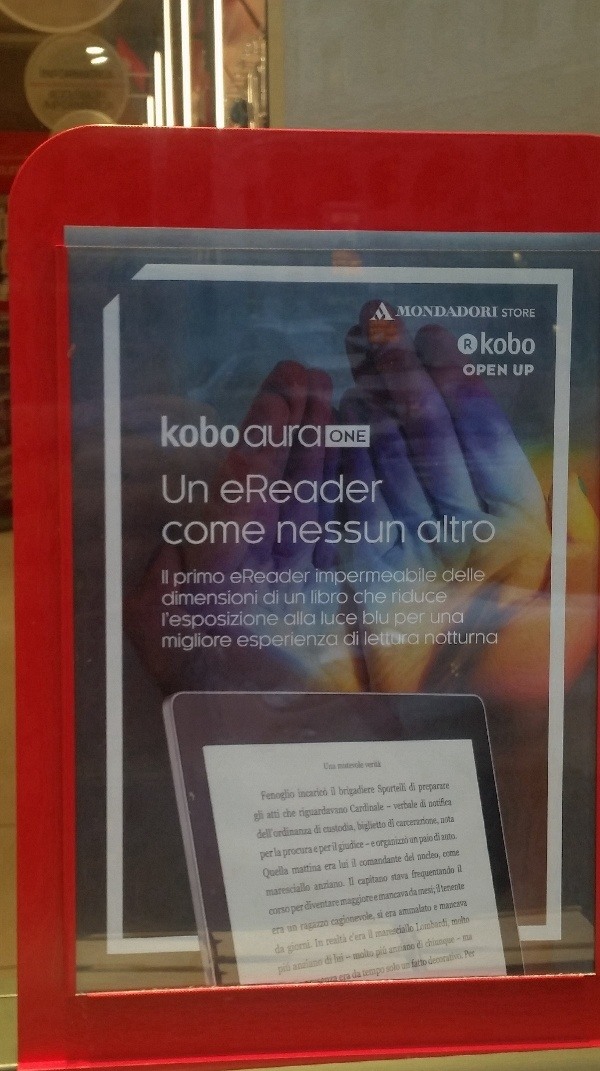text: (193, 472, 209, 511), (177, 472, 192, 511), (305, 413, 321, 448), (161, 413, 176, 448), (177, 413, 192, 448), (193, 413, 208, 448), (209, 413, 224, 448), (225, 413, 240, 448), (241, 413, 256, 448), (257, 413, 272, 448), (273, 413, 288, 448), (289, 413, 304, 448), (225, 471, 240, 506), (241, 471, 256, 506), (257, 471, 272, 506), (273, 471, 288, 506), (289, 471, 304, 506), (305, 471, 320, 506), (321, 471, 336, 506), (337, 471, 352, 506), (353, 471, 368, 506), (369, 471, 384, 506), (163, 472, 176, 511), (417, 513, 432, 546), (433, 513, 448, 546), (449, 513, 464, 546), (465, 513, 480, 546), (481, 513, 496, 546), (177, 517, 192, 549), (193, 517, 208, 549), (209, 517, 224, 549), (225, 517, 240, 549), (241, 517, 256, 549), (163, 517, 176, 549), (289, 517, 304, 544), (305, 517, 320, 544), (321, 517, 336, 544), (337, 517, 352, 544), (353, 517, 368, 544), (369, 517, 384, 544), (385, 517, 400, 544), (481, 331, 496, 356), (497, 331, 512, 356), (513, 331, 528, 356), (177, 610, 192, 631), (193, 610, 208, 631), (209, 610, 224, 631), (225, 610, 240, 631), (241, 610, 256, 631), (257, 610, 272, 631), (321, 566, 336, 587), (337, 566, 352, 587), (353, 566, 368, 587), (369, 566, 384, 587), (385, 566, 400, 587), (401, 566, 416, 587), (417, 566, 432, 587), (177, 568, 192, 588), (193, 568, 208, 588), (209, 568, 224, 588), (241, 632, 256, 652), (257, 632, 272, 652), (273, 632, 288, 652), (289, 632, 304, 652), (305, 632, 320, 652), (321, 632, 336, 652), (277, 517, 288, 544), (162, 610, 176, 631), (257, 517, 266, 549), (177, 633, 192, 652), (193, 633, 208, 652), (209, 633, 224, 652), (337, 607, 352, 626), (289, 938, 304, 957), (353, 891, 368, 910), (385, 922, 400, 941), (449, 567, 464, 585), (465, 567, 480, 585), (401, 588, 416, 606), (417, 588, 432, 606), (369, 588, 384, 606), (369, 630, 384, 648), (385, 630, 400, 648), (401, 630, 416, 648), (417, 865, 432, 883), (433, 865, 448, 883), (337, 910, 352, 928), (353, 910, 368, 928), (433, 930, 448, 948), (449, 930, 464, 948), (162, 633, 176, 652), (322, 607, 336, 626), (289, 591, 305, 607), (241, 590, 257, 606), (241, 567, 256, 584), (257, 567, 272, 584), (273, 567, 288, 584), (289, 567, 304, 584), (321, 588, 336, 605), (369, 609, 384, 626), (401, 611, 416, 628), (433, 629, 448, 646), (449, 629, 464, 646), (465, 629, 480, 646), (481, 629, 496, 646), (433, 588, 447, 606), (354, 588, 368, 606), (401, 922, 414, 941), (513, 363, 528, 379), (177, 590, 192, 606), (193, 590, 208, 606), (209, 590, 224, 606), (225, 590, 240, 606), (273, 865, 289, 880), (305, 956, 320, 972), (369, 819, 384, 835), (433, 917, 449, 932), (162, 568, 176, 585), (340, 891, 352, 910), (337, 431, 352, 446), (465, 362, 480, 377), (481, 362, 496, 377), (289, 611, 304, 626), (273, 788, 288, 803), (305, 806, 320, 821), (321, 806, 336, 821), (385, 835, 400, 850), (369, 873, 384, 888), (417, 917, 432, 932), (433, 951, 448, 966), (162, 590, 176, 606), (401, 799, 417, 813), (401, 305, 416, 319), (417, 305, 432, 319), (433, 305, 448, 319), (449, 305, 464, 319), (465, 305, 480, 319), (481, 305, 496, 319), (465, 338, 480, 352), (273, 883, 288, 897), (289, 883, 304, 897), (305, 898, 320, 912), (321, 898, 336, 912), (353, 785, 368, 799), (385, 783, 400, 797), (353, 799, 368, 813), (369, 799, 384, 813), (385, 799, 400, 813), (369, 855, 384, 869), (385, 855, 400, 869), (449, 951, 463, 966), (369, 966, 384, 980), (337, 588, 349, 605), (338, 840, 352, 854), (338, 785, 352, 799), (353, 431, 366, 446), (257, 827, 272, 840), (337, 821, 352, 834), (289, 846, 304, 859), (305, 920, 320, 933), (401, 815, 416, 828), (417, 815, 432, 828), (353, 947, 368, 960), (433, 782, 449, 794), (291, 903, 304, 917), (418, 884, 432, 897), (386, 960, 400, 973), (433, 612, 448, 624), (273, 826, 288, 838), (289, 826, 304, 838), (305, 863, 320, 875), (321, 880, 336, 892), (385, 890, 400, 902), (401, 903, 416, 915), (417, 903, 432, 915), (293, 956, 304, 972), (357, 819, 368, 835), (225, 633, 234, 652), (323, 821, 336, 834), (339, 857, 352, 870), (451, 913, 464, 926), (449, 612, 463, 624), (401, 942, 415, 954), (513, 308, 528, 319), (261, 788, 272, 803), (305, 787, 320, 798), (337, 806, 348, 821), (433, 798, 448, 809), (449, 900, 464, 911), (278, 960, 288, 976), (419, 782, 432, 794), (419, 834, 432, 846), (353, 931, 366, 943), (353, 840, 364, 854), (434, 832, 448, 843), (231, 567, 240, 584), (376, 922, 384, 941), (529, 331, 535, 356), (497, 362, 507, 377), (305, 611, 315, 626), (273, 906, 288, 916), (326, 931, 336, 946), (337, 931, 347, 946), (417, 851, 432, 861), (358, 873, 368, 888), (449, 882, 464, 892), (321, 975, 336, 985), (273, 610, 280, 631), (263, 589, 272, 605), (343, 631, 352, 647), (392, 588, 400, 606), (292, 863, 304, 875), (275, 943, 288, 954), (220, 471, 224, 506), (338, 760, 352, 770), (274, 849, 288, 859), (306, 975, 320, 985), (312, 588, 320, 605), (417, 611, 425, 628), (401, 517, 406, 544), (263, 865, 272, 880), (273, 927, 288, 936), (260, 851, 272, 862), (325, 953, 336, 965), (388, 817, 400, 828), (389, 942, 400, 954), (386, 909, 400, 918), (425, 930, 432, 948), (465, 930, 472, 948), (405, 851, 416, 862), (420, 798, 432, 808), (436, 884, 448, 894), (417, 957, 427, 969), (401, 962, 416, 970), (425, 629, 432, 646), (339, 973, 352, 982), (360, 855, 368, 869), (376, 945, 384, 959), (502, 308, 512, 319), (353, 760, 364, 770), (321, 845, 331, 856), (465, 948, 475, 959), (442, 567, 448, 585), (481, 567, 487, 585), (324, 862, 336, 871), (449, 865, 455, 883), (369, 910, 375, 928), (315, 566, 320, 587), (433, 566, 438, 587), (289, 788, 296, 803), (257, 808, 264, 823), (377, 835, 384, 850), (401, 835, 408, 850), (305, 846, 313, 859), (321, 920, 329, 933), (337, 952, 345, 965), (305, 567, 311, 584), (362, 609, 368, 626), (353, 969, 362, 980), (353, 631, 359, 647), (324, 763, 336, 771), (337, 880, 345, 892), (401, 890, 409, 902), (353, 607, 358, 626), (305, 938, 310, 957), (369, 891, 374, 910), (330, 431, 336, 446), (449, 850, 459, 859), (391, 872, 400, 882), (374, 894, 384, 903), (433, 905, 448, 911), (331, 910, 336, 928), (449, 832, 457, 843), (440, 900, 448, 911), (395, 611, 400, 628), (369, 761, 381, 768), (305, 826, 312, 838), (266, 883, 272, 897), (369, 785, 375, 799), (378, 783, 384, 797), (401, 783, 407, 797), (529, 363, 534, 379), (273, 589, 278, 605), (433, 851, 441, 861), (401, 872, 409, 882), (371, 842, 384, 848), (433, 815, 439, 828), (529, 308, 536, 319), (321, 787, 328, 798), (313, 824, 320, 835), (409, 782, 416, 793), (441, 832, 448, 843), (457, 863, 464, 874), (299, 806, 304, 821), (364, 630, 368, 648), (314, 880, 320, 892), (289, 925, 298, 933), (440, 816, 448, 825), (412, 865, 416, 883), (378, 890, 384, 902), (378, 908, 384, 920), (273, 810, 280, 820), (289, 809, 296, 819), (305, 883, 310, 897), (441, 882, 448, 892), (363, 966, 368, 980), (385, 609, 389, 626), (298, 787, 304, 798), (410, 886, 416, 897), (417, 938, 423, 949), (283, 846, 288, 859), (465, 913, 470, 926), (369, 947, 374, 960), (284, 591, 288, 607), (237, 632, 240, 652), (284, 611, 288, 626), (266, 810, 272, 820), (369, 928, 373, 943), (411, 957, 416, 969), (409, 836, 416, 844), (315, 937, 320, 948), (449, 816, 455, 825), (331, 787, 336, 797), (283, 809, 288, 819), (314, 846, 320, 854), (332, 839, 336, 851), (443, 850, 448, 859), (385, 873, 388, 888), (429, 951, 432, 966), (397, 305, 400, 319), (174, 568, 176, 588), (353, 821, 356, 834), (301, 920, 304, 933), (333, 952, 336, 965), (397, 815, 400, 828), (433, 884, 436, 897), (385, 588, 387, 606), (417, 630, 419, 648), (330, 764, 336, 770), (346, 954, 352, 960), (349, 931, 352, 943), (353, 858, 356, 869), (349, 877, 352, 888), (321, 937, 324, 948), (429, 798, 432, 809), (449, 798, 452, 809), (289, 960, 291, 976), (269, 906, 272, 916), (337, 898, 339, 912), (350, 799, 352, 813), (385, 945, 387, 959), (465, 900, 467, 911), (365, 761, 368, 768), (225, 568, 226, 588), (337, 632, 338, 652), (497, 629, 498, 646), (321, 956, 322, 972), (385, 819, 386, 835), (417, 836, 419, 844), (463, 362, 464, 377), (255, 808, 256, 823), (367, 928, 368, 943), (497, 305, 498, 319), (401, 855, 402, 869), (431, 612, 432, 624), (321, 863, 322, 875), (364, 843, 368, 846), (399, 903, 400, 915), (321, 824, 322, 835), (273, 851, 274, 862), (351, 858, 352, 869), (353, 877, 354, 888), (289, 906, 290, 916), (337, 975, 338, 985), (369, 843, 370, 846)
